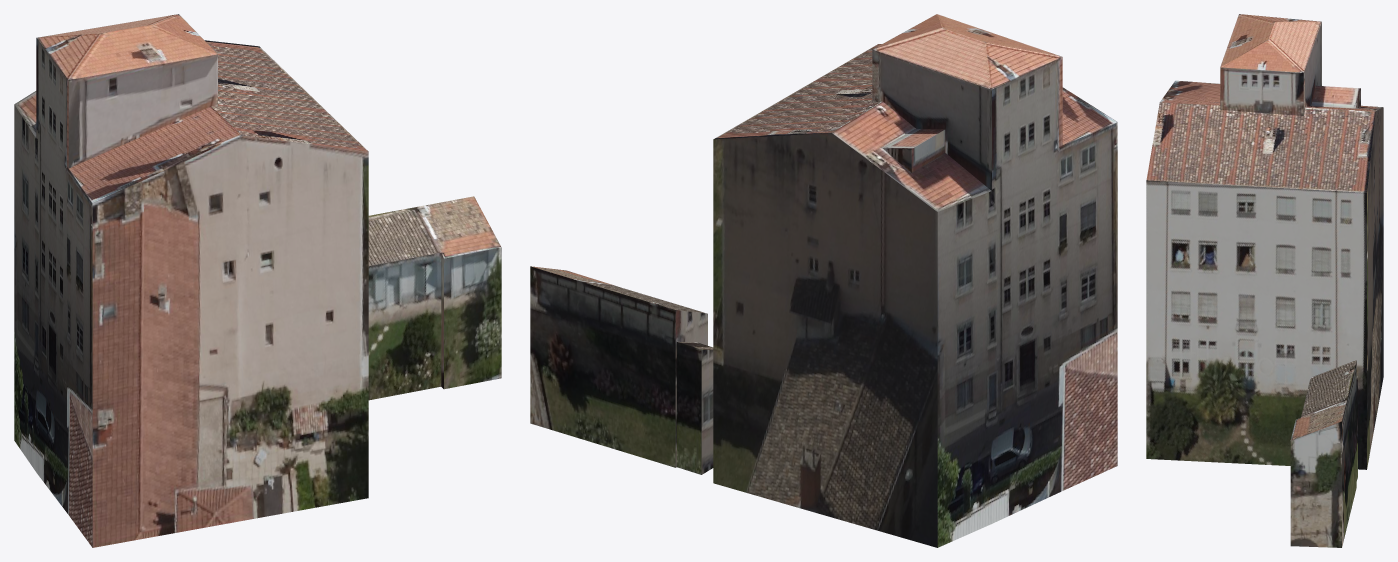
The picture shows the model from 3 angles, left to right: view 1: azimuth 30°, elevation 25°; view 2: azimuth 150°, elevation 25°; view 3: azimuth 270°, elevation 25°; orthographic projection. The views are drawn at different scales.
Parts seen in each view (by area): view 1: Z_UP; view 2: Z_UP; view 3: Z_UP.
Boxes of the visible parts, x1=… form: Z_UP: x1=14, y1=14, x2=501, y2=547; Z_UP: x1=530, y1=14, x2=1117, y2=547; Z_UP: x1=1146, y1=14, x2=1383, y2=547.
Size of the model in its own units: 37.06 by 33.01 by 19.5.
2 materials, 1 textured.
